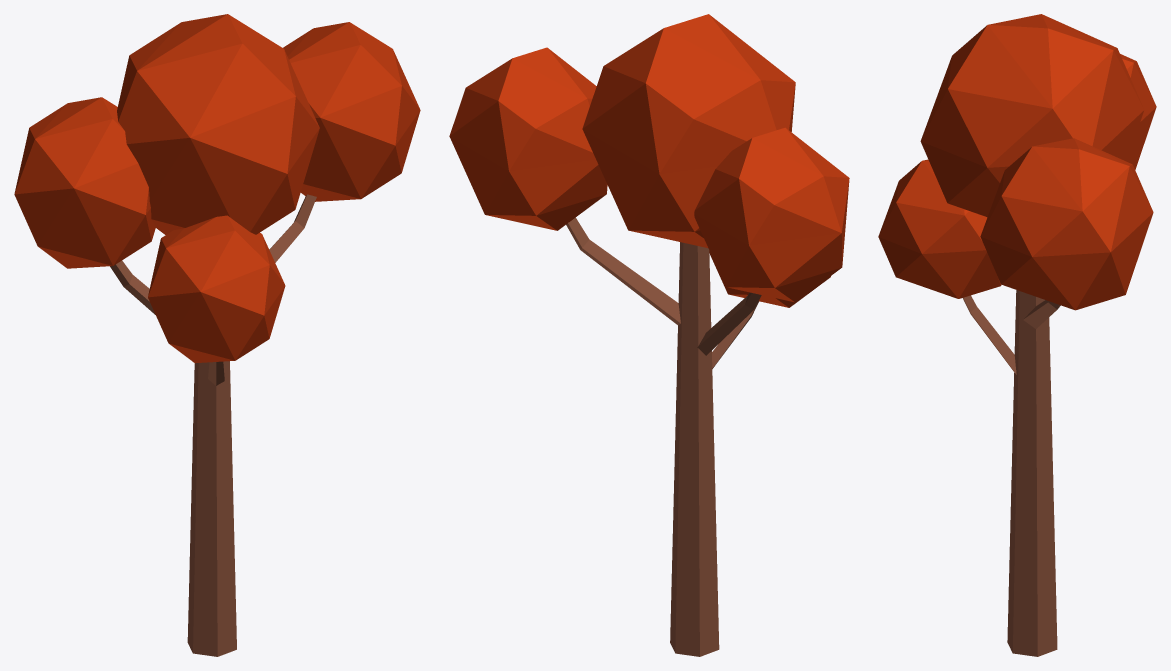
Rendered from Tree_35_summer_red_mat.fbx.
The picture shows the model from 3 angles, left to right: view 1: azimuth 30°, elevation 25°; view 2: azimuth 150°, elevation 25°; view 3: azimuth 270°, elevation 25°; orthographic projection.
Parts seen in each view (by area): view 1: Tree_35_summer_red_mat; view 2: Tree_35_summer_red_mat; view 3: Tree_35_summer_red_mat.
Part boxes in pixels (bbox=[...]): Tree_35_summer_red_mat: bbox=[14, 14, 420, 656]; Tree_35_summer_red_mat: bbox=[449, 14, 849, 656]; Tree_35_summer_red_mat: bbox=[878, 14, 1156, 656].
Bounding box in the file's own units: 423 × 658 × 264.
